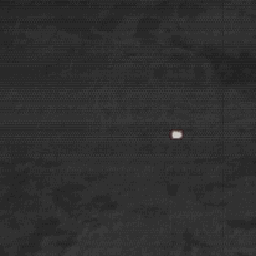Target: (169, 130, 183, 140)
